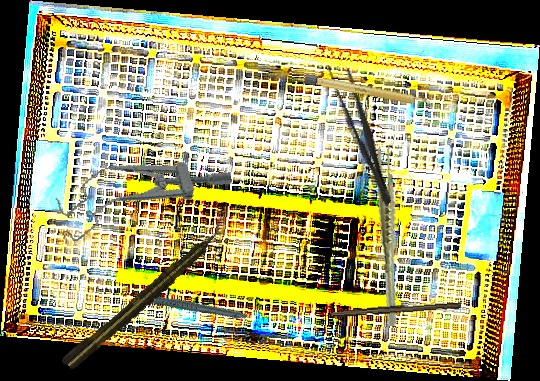Dressing Forceps: (323, 58, 400, 208)
Handpiece: (59, 221, 230, 374), (134, 268, 249, 341)
Scalpel Handle: (304, 73, 431, 109), (329, 298, 462, 320)
Speculum: (47, 135, 237, 245)
Tissue Forceps: (353, 143, 422, 327)
